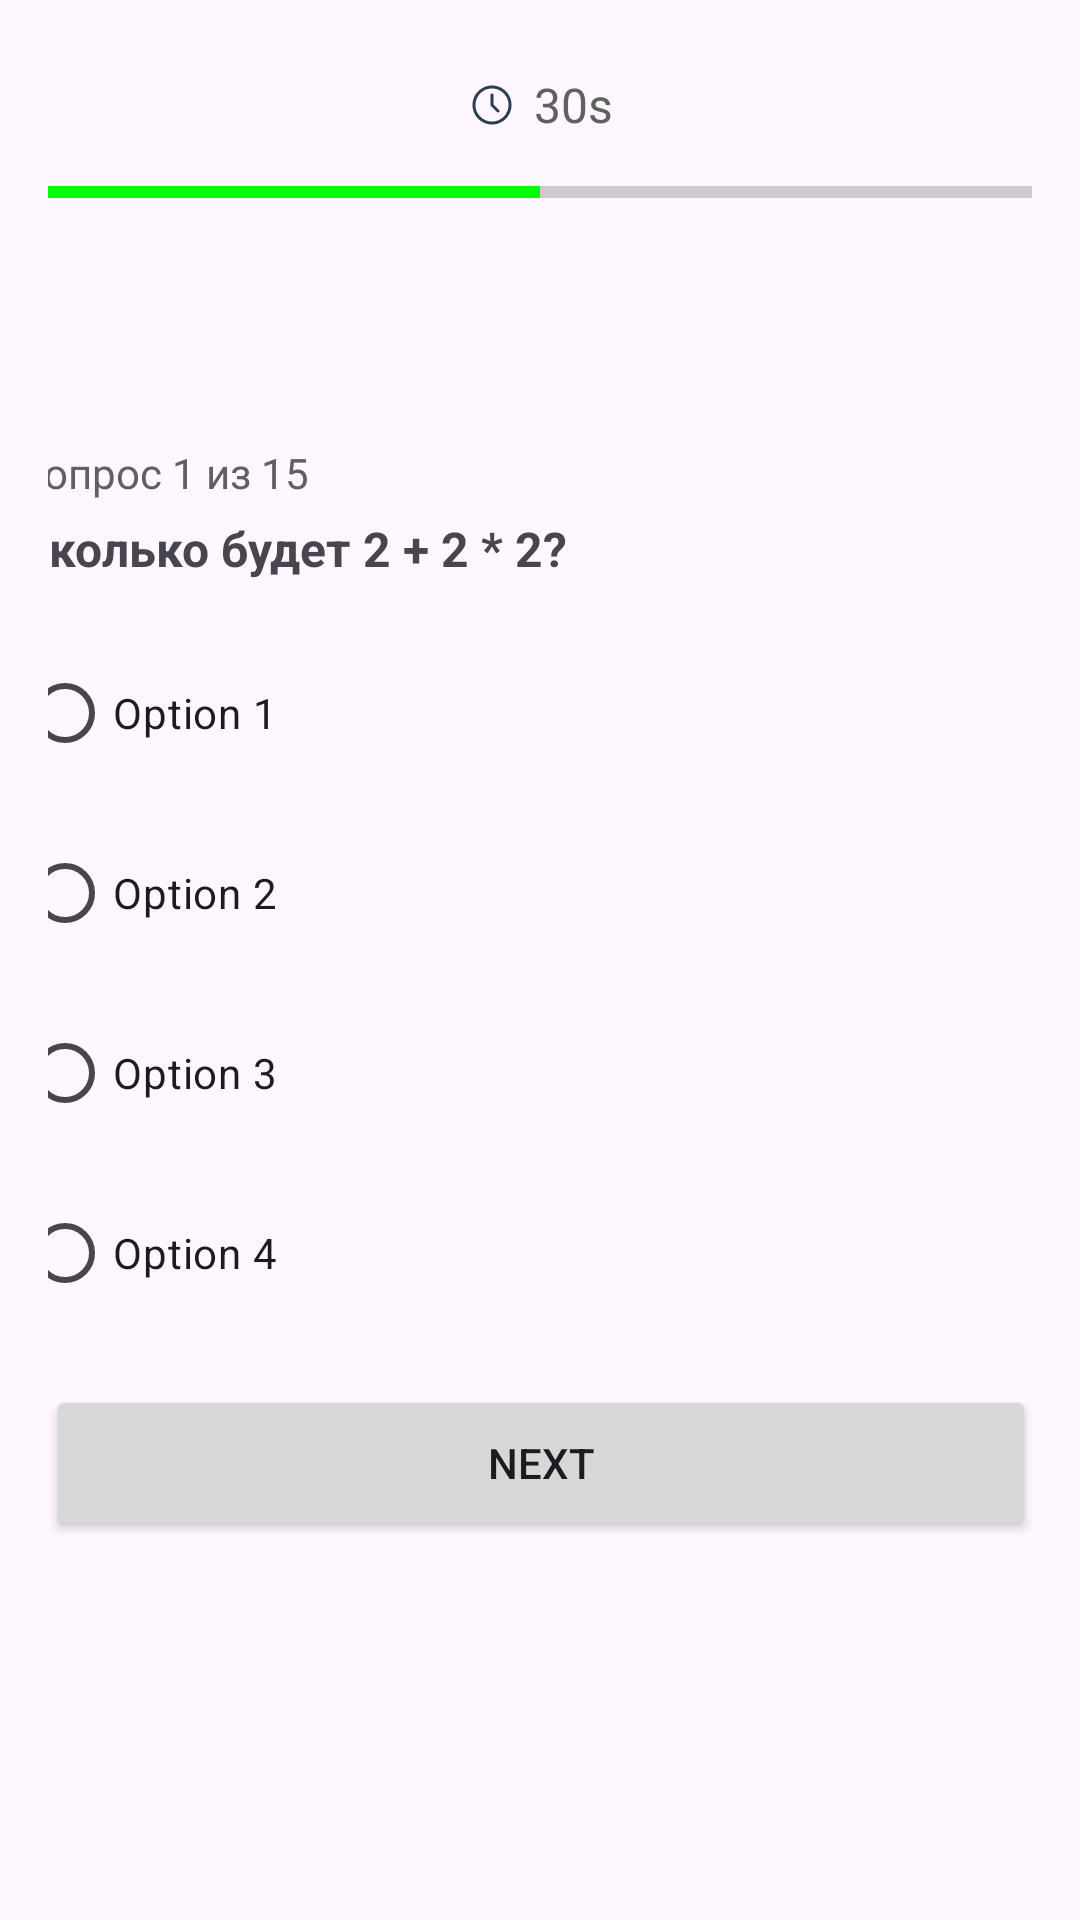

Point at icon controls on the screen. Image size 1080*1920, points as point (x, y).
clock: point (492, 105)
